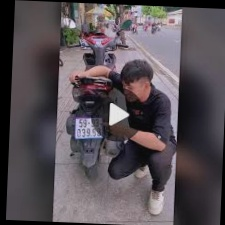Bien-so: (73, 114, 103, 139)
